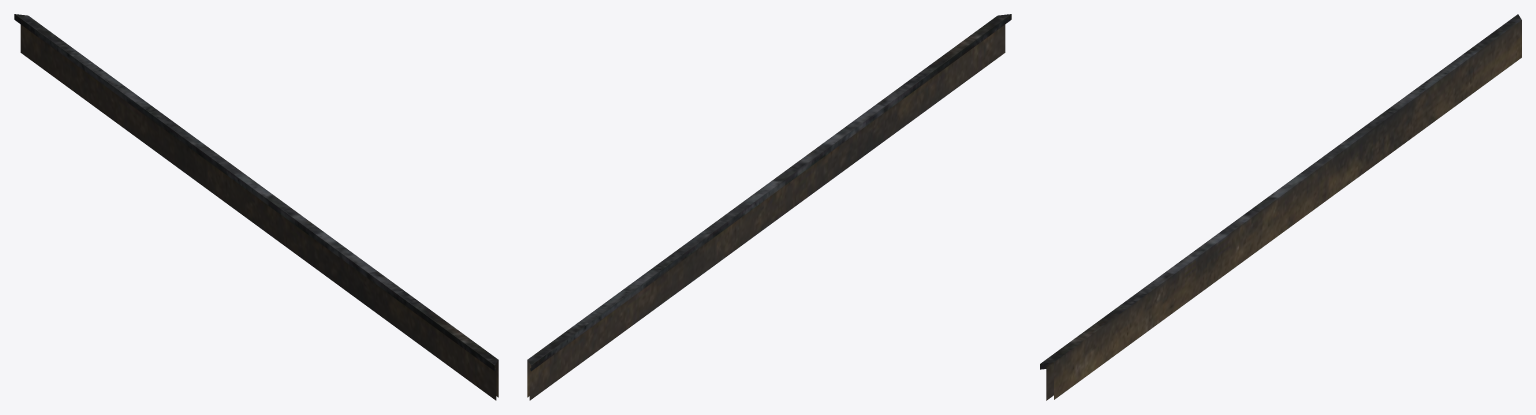
The model's file is RoofSide_03.FBX.
The picture shows the model from 3 angles, left to right: view 1: azimuth 30°, elevation 25°; view 2: azimuth 150°, elevation 25°; view 3: azimuth 330°, elevation 25°; orthographic projection.
Visible parts, largest first — view 1: RoofSide_03; view 2: RoofSide_03; view 3: RoofSide_03.
Boxes of the visible parts, x1=… form: RoofSide_03: x1=14, y1=14, x2=498, y2=400; RoofSide_03: x1=527, y1=14, x2=1011, y2=400; RoofSide_03: x1=1040, y1=14, x2=1521, y2=400.
Bounding box in the file's own units: 22.66 × 92.93 × 2129.
